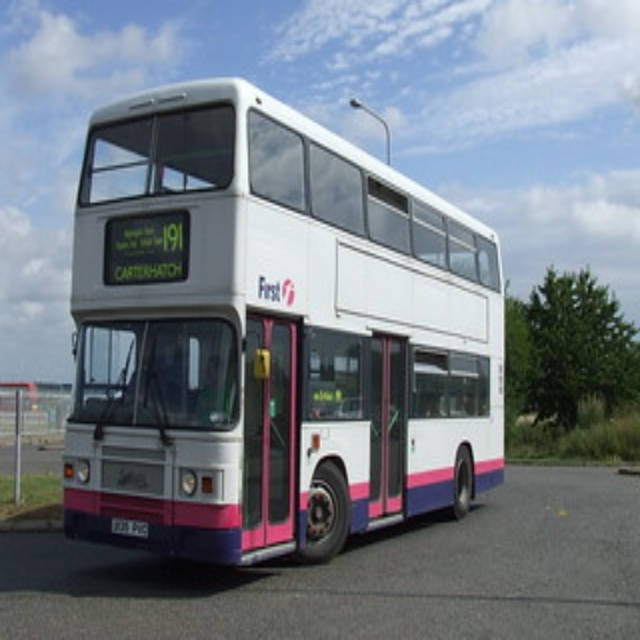Bus: (60, 80, 506, 573)
